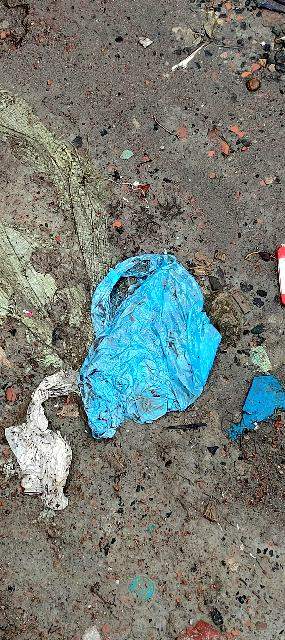polythene: (60, 248, 231, 430)
